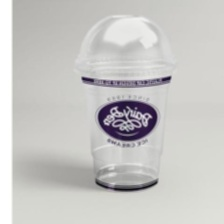glass: (70, 9, 183, 199)
